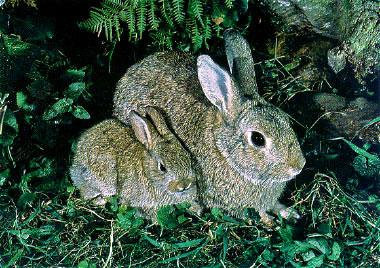bunny: (104, 28, 306, 223), (49, 106, 204, 215)
